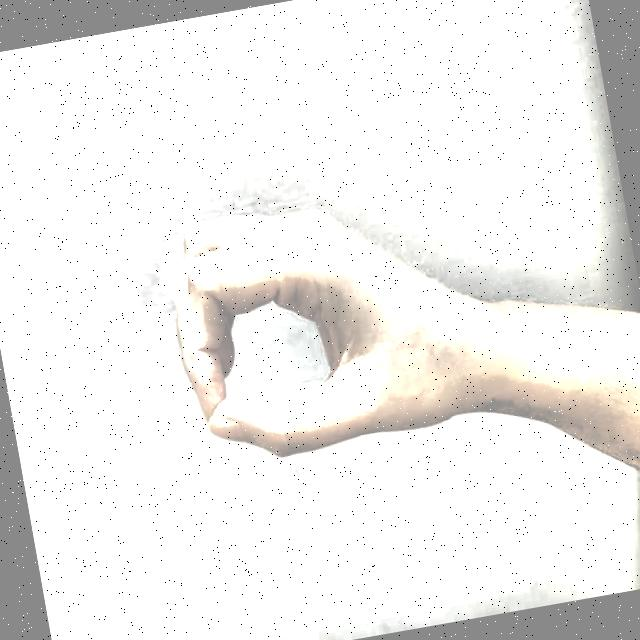O: (140, 151, 498, 521)
